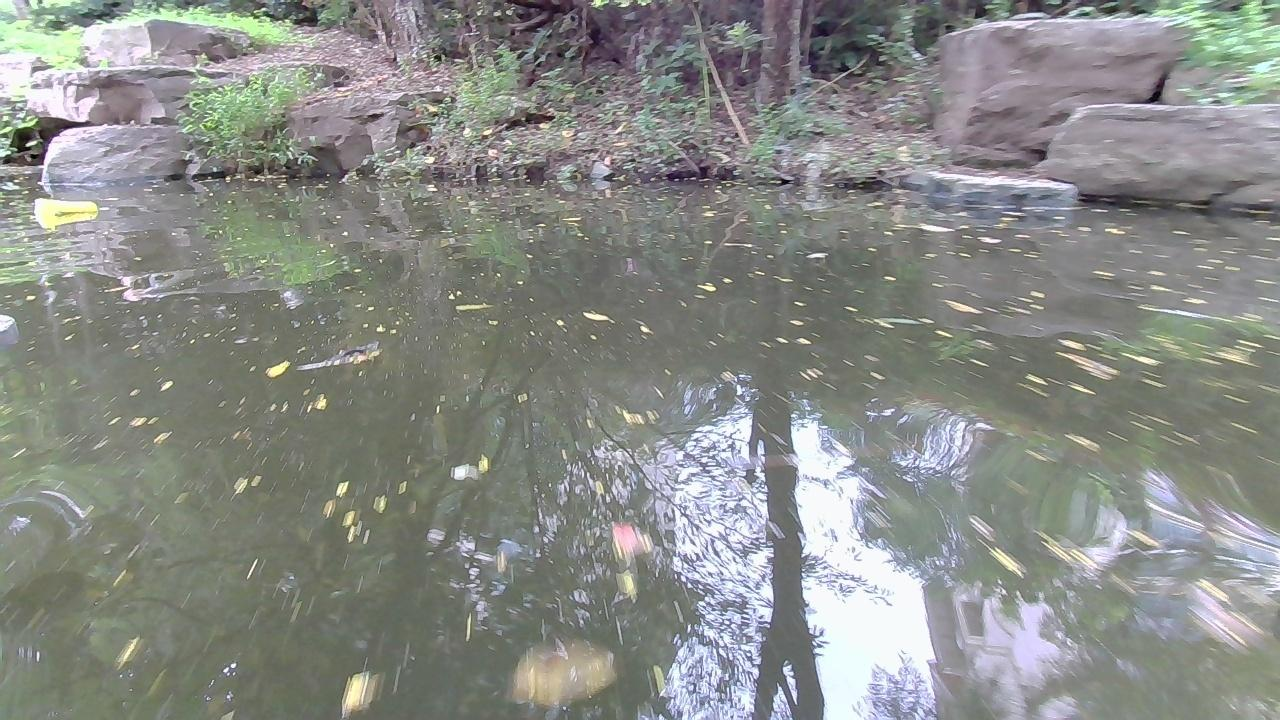bottle: (30, 198, 102, 221)
